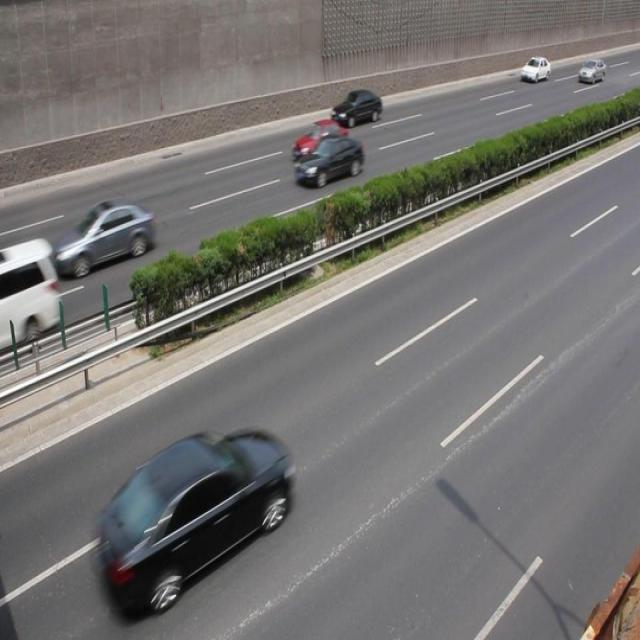car: (97, 430, 293, 601), (51, 201, 156, 278), (1, 239, 62, 349), (292, 136, 364, 188), (290, 119, 349, 167), (330, 90, 383, 128), (519, 56, 549, 84), (577, 58, 604, 84)
